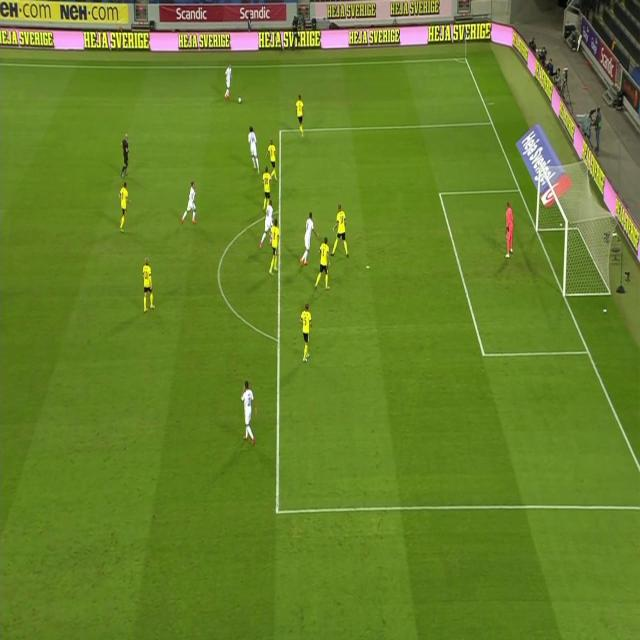ball: (236, 94, 242, 104)
player: (238, 379, 257, 447), (297, 209, 319, 266), (330, 201, 350, 259), (313, 234, 333, 290), (298, 300, 314, 362), (140, 255, 156, 313), (267, 216, 282, 276), (502, 199, 516, 260), (180, 180, 198, 227), (259, 198, 274, 249), (246, 124, 261, 172), (117, 180, 131, 230), (588, 105, 602, 150), (265, 138, 279, 180), (260, 166, 274, 207), (119, 132, 131, 178), (294, 92, 306, 136), (223, 62, 233, 100)
